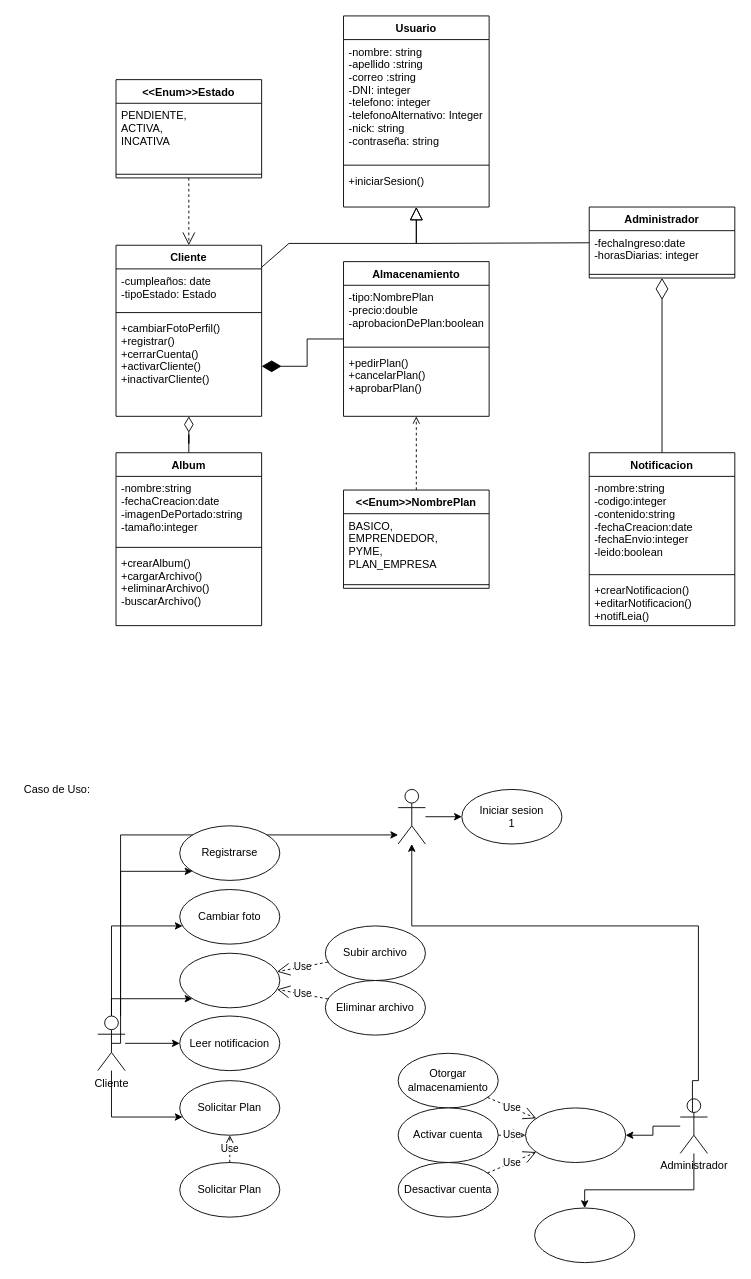
Some shapes in this 751 by 1279 pixel diagram are drawn without their labels. The shapes that lost their labels are listed below. From the top down, each one's centre as x and y in pixels, then its label:
the point at 411,816: Actor
the point at 229,980: Crear album
the point at 575,1135: Gestionar cuentas cliente
the point at 584,1235: Gestionar notificacion
